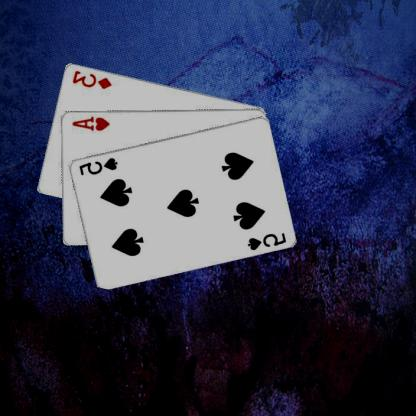3D: (72, 67, 115, 90)
5S: (78, 155, 120, 176), (246, 230, 288, 251)
AH: (72, 113, 112, 132)
